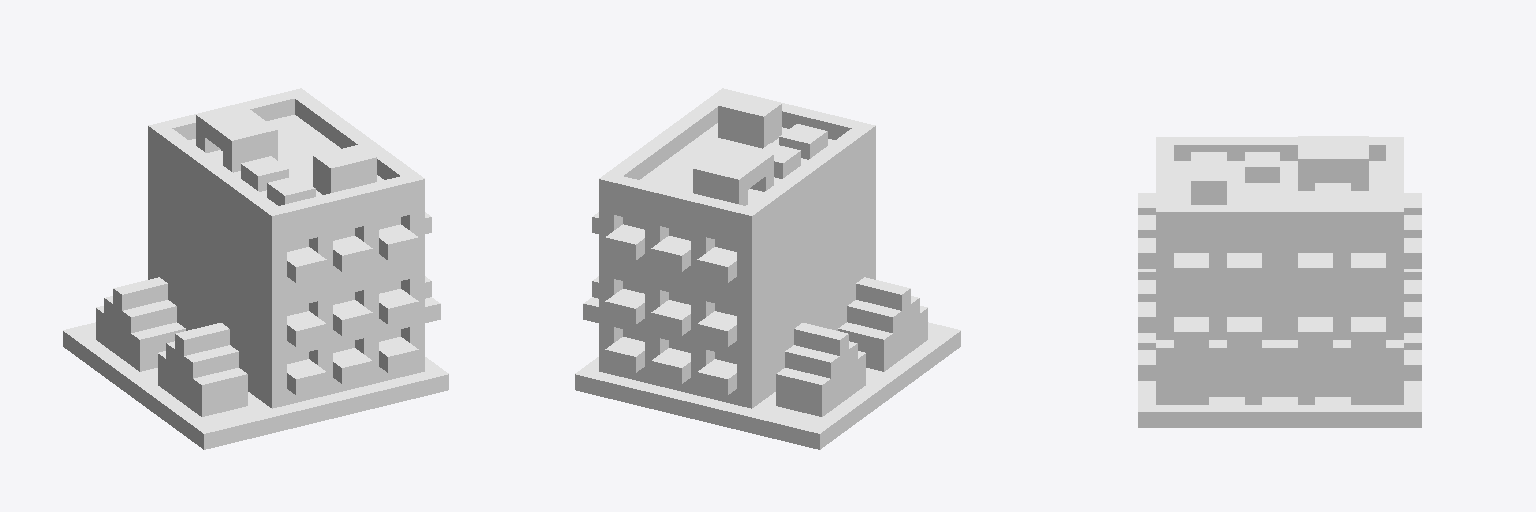
File: PoliceStation.obj
3 views of the same model, side by side, from view 1: azimuth 30°, elevation 25°; view 2: azimuth 150°, elevation 25°; view 3: azimuth 270°, elevation 25° (orthographic).
Bounding box in the file's own units: 16 × 14 × 16.